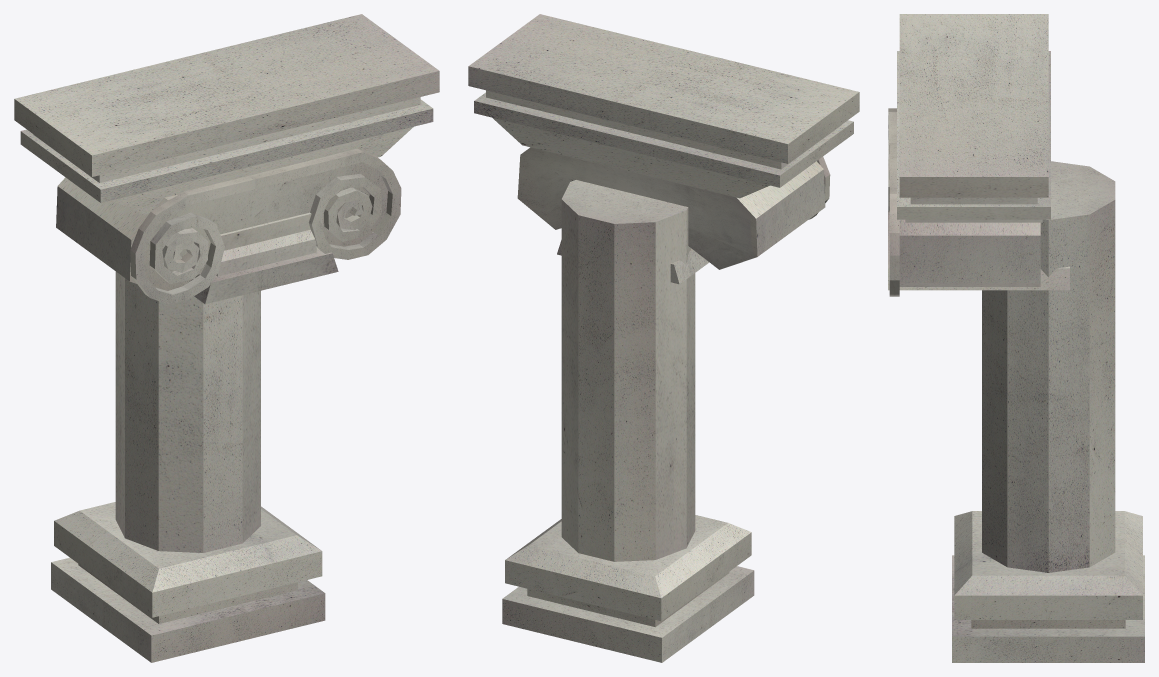
Rendered from olympus_column.fbx.
The picture shows the model from 3 angles, left to right: view 1: azimuth 30°, elevation 25°; view 2: azimuth 150°, elevation 25°; view 3: azimuth 270°, elevation 25°; orthographic projection. The views are drawn at different scales.
Parts seen in each view (by area): view 1: group8; view 2: group8; view 3: group8.
Part boxes in pixels (x1,y1,x2,y2): group8: [14, 14, 439, 662]; group8: [468, 14, 859, 662]; group8: [888, 14, 1144, 662].
Size of the model in its own units: 4 by 6.03 by 2.67.
1 material, 1 textured.
